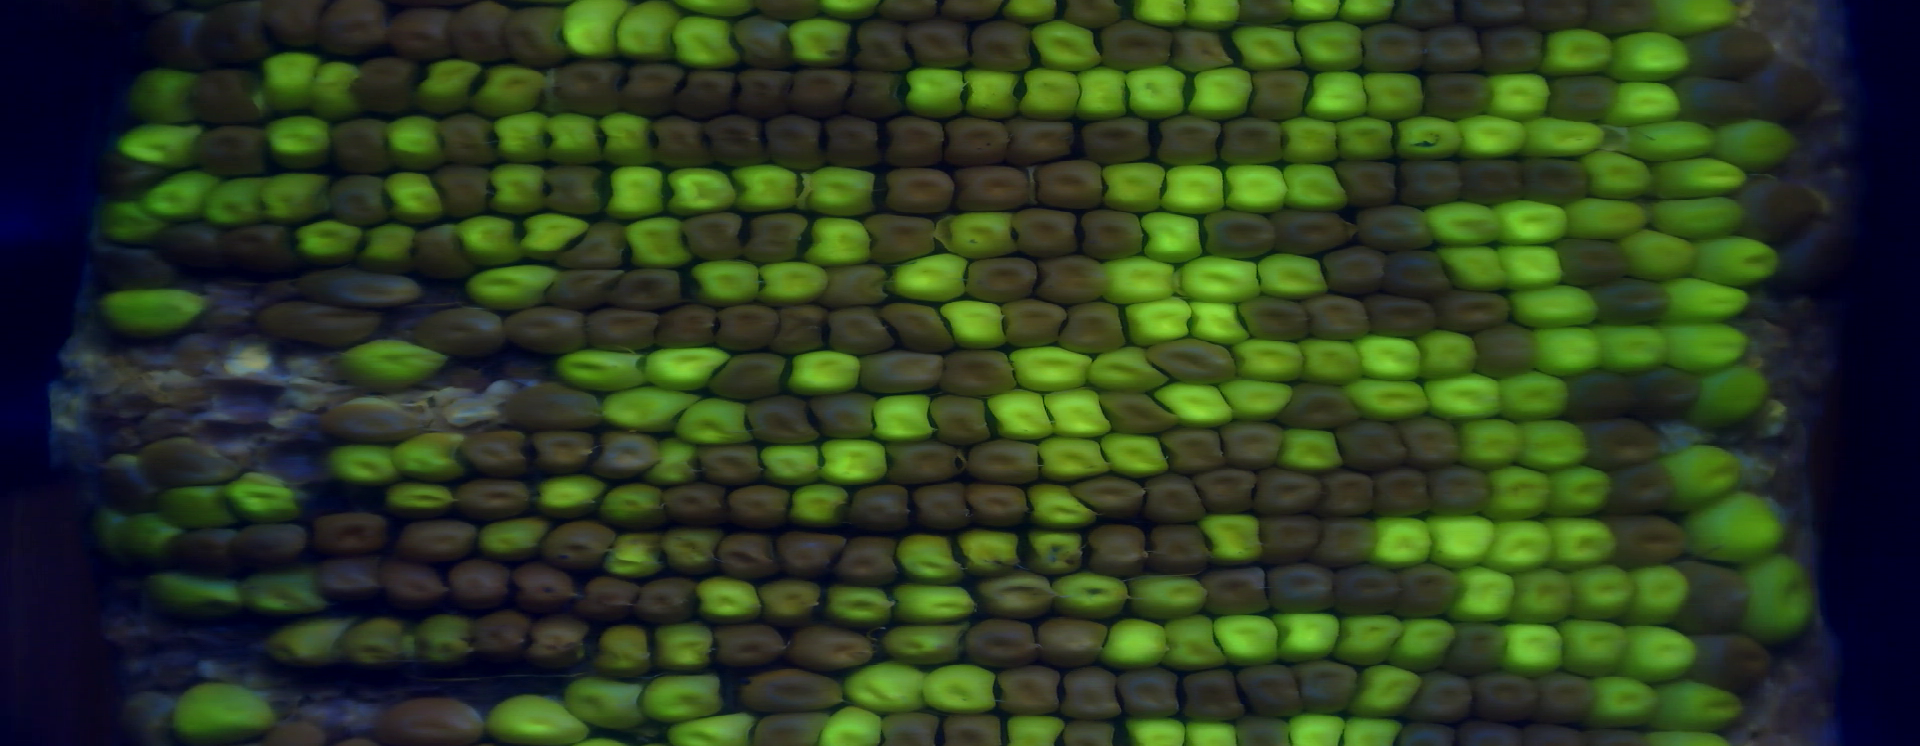fluorescent: (1678, 488, 1785, 570), (1738, 549, 1813, 641), (93, 283, 206, 344), (167, 684, 280, 744), (1656, 443, 1746, 514), (140, 566, 249, 624), (1644, 673, 1746, 733), (1693, 352, 1767, 431), (444, 209, 531, 274), (1562, 189, 1658, 247), (339, 334, 452, 383), (1480, 512, 1561, 578), (1118, 566, 1215, 621), (482, 693, 588, 744), (1660, 316, 1751, 374), (1690, 232, 1780, 288), (1283, 15, 1368, 75), (1504, 277, 1599, 330), (918, 657, 1000, 718), (1621, 113, 1725, 160), (1539, 511, 1619, 573), (1618, 621, 1697, 684), (1269, 604, 1349, 665), (1036, 385, 1118, 445), (235, 570, 338, 617), (842, 661, 931, 717), (463, 262, 562, 311), (1482, 464, 1562, 524), (885, 576, 977, 628), (260, 111, 337, 174), (125, 66, 204, 126), (560, 674, 644, 730), (1558, 617, 1632, 681), (1711, 118, 1799, 171), (1343, 371, 1431, 425), (636, 673, 732, 722), (1213, 372, 1305, 424), (1516, 414, 1598, 472), (883, 255, 972, 307), (1082, 344, 1172, 397), (1427, 505, 1498, 571), (1657, 272, 1751, 321), (1008, 341, 1102, 390), (471, 55, 542, 120), (1531, 323, 1607, 383), (1224, 22, 1309, 76), (1431, 241, 1512, 298), (1642, 194, 1747, 236), (1332, 605, 1404, 668), (636, 342, 732, 388), (1565, 563, 1644, 620), (938, 209, 1019, 265), (1032, 432, 1113, 488), (1625, 561, 1691, 628), (942, 288, 1011, 352), (675, 10, 746, 72), (782, 348, 871, 398), (1138, 205, 1210, 266), (556, 345, 648, 393), (1253, 250, 1336, 303), (819, 578, 902, 631), (257, 48, 324, 113), (1580, 145, 1656, 202), (1347, 661, 1423, 719), (1370, 512, 1441, 573), (1150, 160, 1227, 217), (1652, 152, 1747, 197), (1177, 252, 1265, 301), (116, 121, 204, 170), (1194, 512, 1269, 570), (539, 100, 602, 168), (1100, 426, 1176, 483), (1584, 670, 1660, 726), (1051, 566, 1131, 619), (1609, 32, 1693, 82), (1149, 380, 1233, 430), (598, 386, 699, 428), (1545, 458, 1611, 522), (1016, 62, 1086, 122), (656, 708, 767, 746), (151, 481, 240, 528), (1491, 196, 1572, 247), (1160, 614, 1226, 676), (1349, 332, 1428, 385), (1420, 200, 1502, 250), (1096, 256, 1178, 306), (754, 257, 836, 307), (287, 218, 369, 268), (785, 17, 860, 72), (1542, 24, 1616, 80), (689, 254, 765, 307), (983, 390, 1059, 443), (1218, 162, 1291, 218), (868, 390, 940, 446), (1119, 295, 1196, 348), (1524, 111, 1605, 162), (1227, 336, 1316, 381), (950, 526, 1024, 581), (1453, 563, 1521, 624), (1393, 612, 1461, 673), (416, 58, 484, 118), (613, 1, 682, 60), (726, 160, 804, 212), (1101, 612, 1171, 670), (1100, 158, 1171, 214), (802, 216, 878, 268), (891, 532, 967, 584), (1022, 479, 1102, 529), (623, 214, 696, 269), (1498, 622, 1570, 677), (1510, 565, 1572, 628), (1453, 418, 1528, 470), (264, 621, 349, 668), (322, 440, 404, 488), (807, 163, 878, 218), (1296, 332, 1367, 387), (1213, 612, 1284, 668), (1596, 321, 1671, 372), (751, 439, 830, 488), (381, 107, 446, 167), (1282, 159, 1351, 216), (560, 1, 628, 58), (1491, 241, 1566, 293), (479, 517, 553, 568), (1609, 76, 1687, 125), (1487, 69, 1558, 122), (604, 160, 669, 219), (258, 170, 331, 223), (223, 473, 295, 526), (1360, 70, 1429, 125), (814, 436, 891, 485), (389, 431, 467, 480), (593, 483, 676, 528), (342, 615, 403, 676), (1180, 295, 1251, 348), (591, 620, 656, 677), (1422, 376, 1506, 420), (92, 197, 171, 244), (1391, 111, 1464, 162), (1275, 424, 1344, 477), (119, 505, 180, 565), (961, 61, 1024, 120), (1620, 229, 1691, 281), (1416, 326, 1482, 381), (696, 575, 763, 628), (1498, 369, 1573, 416), (673, 401, 756, 445), (514, 209, 584, 261), (1304, 65, 1368, 121), (1076, 62, 1133, 126), (598, 110, 661, 167), (817, 701, 895, 746), (1275, 111, 1342, 164), (144, 170, 212, 223), (309, 53, 365, 115), (1188, 62, 1251, 118), (485, 160, 549, 216), (1330, 114, 1400, 164), (198, 173, 264, 225), (1029, 20, 1100, 69), (664, 165, 735, 214), (350, 227, 420, 276), (902, 66, 967, 119), (413, 609, 471, 666), (609, 529, 669, 586), (1127, 69, 1189, 122), (879, 621, 962, 661), (651, 621, 718, 671), (1457, 115, 1529, 160), (536, 469, 604, 517), (789, 480, 858, 526), (384, 174, 446, 224), (1026, 527, 1089, 576), (1652, 1, 1736, 37), (91, 501, 136, 567), (487, 111, 547, 160), (389, 475, 457, 518), (645, 436, 704, 484), (1120, 712, 1196, 746), (1287, 710, 1353, 746), (999, 713, 1070, 746), (1133, 1, 1196, 33), (1188, 1, 1247, 36), (1180, 715, 1244, 746), (1644, 725, 1734, 746), (1344, 717, 1406, 746), (1333, 1, 1400, 28), (675, 1, 759, 22), (818, 1, 882, 27), (1284, 1, 1346, 21), (1008, 1, 1059, 24)
nonfluorescent: (1760, 209, 1850, 299), (253, 294, 384, 349), (411, 300, 524, 359), (1669, 559, 1755, 635), (1684, 632, 1776, 697), (294, 262, 425, 307), (317, 396, 433, 446), (129, 436, 241, 488), (410, 214, 486, 290), (498, 385, 607, 437), (367, 695, 489, 741), (876, 296, 960, 361), (1736, 171, 1816, 239), (502, 1, 574, 75), (500, 301, 598, 355), (778, 624, 879, 675), (1142, 333, 1242, 386), (382, 1, 460, 67), (1265, 561, 1349, 622), (89, 232, 179, 289), (740, 392, 825, 452), (1584, 272, 1678, 326), (615, 55, 687, 124), (1000, 111, 1082, 171), (1073, 114, 1160, 170), (1458, 668, 1545, 724), (313, 1, 393, 62), (1686, 24, 1776, 78), (82, 143, 165, 201), (1671, 72, 1758, 127), (138, 10, 213, 73), (962, 15, 1040, 76), (1198, 207, 1283, 262), (732, 669, 842, 712), (855, 342, 944, 394), (509, 557, 588, 617), (1393, 559, 1464, 625), (1078, 516, 1151, 579), (1195, 563, 1275, 622), (540, 516, 620, 575), (1095, 20, 1176, 77), (1265, 205, 1359, 254), (708, 347, 792, 401), (948, 165, 1038, 216), (216, 222, 304, 273), (181, 67, 263, 122), (1467, 321, 1539, 383), (200, 1, 272, 64), (1603, 512, 1686, 566), (763, 107, 830, 173), (1578, 416, 1656, 474), (1177, 661, 1248, 724), (798, 390, 880, 443), (394, 516, 484, 565), (820, 108, 888, 173), (822, 303, 898, 360), (1057, 296, 1129, 356), (541, 160, 613, 220), (880, 436, 962, 489), (1029, 157, 1107, 212), (860, 209, 938, 265), (1551, 232, 1630, 287), (446, 1, 509, 69), (936, 345, 1019, 397), (880, 111, 951, 171), (1236, 292, 1316, 344), (309, 555, 389, 608), (1032, 249, 1109, 304), (1333, 416, 1411, 472), (989, 663, 1067, 718), (927, 392, 1000, 450), (1393, 413, 1467, 470), (320, 118, 393, 175), (1008, 205, 1086, 258), (105, 451, 171, 514), (1002, 296, 1076, 353), (964, 251, 1043, 304), (1031, 615, 1111, 668), (1296, 657, 1365, 717), (1311, 511, 1382, 570), (962, 621, 1043, 673), (555, 220, 636, 272), (544, 266, 631, 314), (851, 18, 924, 75), (879, 167, 958, 219), (1076, 205, 1146, 263), (1298, 292, 1378, 343), (440, 559, 516, 612), (1116, 664, 1187, 722), (198, 120, 271, 176), (527, 424, 604, 477), (1446, 619, 1509, 684), (1749, 62, 1822, 118), (594, 421, 661, 481), (1098, 387, 1183, 435), (1547, 76, 1621, 130), (1600, 458, 1675, 512), (1360, 289, 1440, 339), (1559, 371, 1644, 418), (845, 481, 917, 537), (961, 436, 1044, 484), (525, 610, 590, 671), (1280, 380, 1360, 429), (1058, 665, 1127, 723), (1351, 203, 1438, 249), (939, 116, 1014, 169), (784, 62, 853, 119), (429, 164, 500, 219), (456, 428, 535, 477), (1069, 474, 1150, 522), (1217, 114, 1287, 169), (1517, 156, 1592, 207), (373, 560, 444, 614), (1533, 666, 1597, 726), (156, 220, 231, 271), (1398, 153, 1464, 211), (556, 58, 622, 115), (1216, 421, 1288, 474), (830, 533, 898, 589), (1255, 510, 1322, 566), (1335, 561, 1402, 617), (1149, 114, 1222, 165), (708, 622, 793, 666), (351, 56, 420, 111), (451, 477, 534, 522), (702, 111, 765, 170), (1633, 365, 1704, 418), (718, 481, 793, 530), (1381, 247, 1453, 299), (907, 479, 975, 534), (1239, 661, 1307, 717), (576, 573, 644, 627), (1404, 671, 1473, 725), (1322, 240, 1387, 296), (770, 301, 830, 361), (714, 530, 787, 579), (771, 530, 845, 579), (328, 174, 392, 230), (692, 439, 767, 486), (1330, 156, 1401, 206), (962, 477, 1033, 527), (1431, 284, 1510, 330), (743, 208, 811, 261), (708, 303, 780, 352), (678, 213, 747, 265), (654, 299, 722, 350), (842, 65, 904, 122), (1140, 524, 1213, 572), (729, 15, 795, 67), (1157, 426, 1228, 475), (1191, 463, 1259, 514), (1139, 473, 1206, 524), (1455, 157, 1527, 205), (470, 609, 531, 665), (262, 1, 323, 58), (730, 65, 793, 119), (1476, 24, 1545, 73), (1420, 22, 1485, 75), (1427, 465, 1491, 518), (1373, 465, 1438, 518), (818, 265, 898, 307), (440, 111, 500, 168), (1248, 67, 1311, 120), (1359, 18, 1425, 69), (233, 523, 315, 563), (658, 485, 732, 529), (905, 16, 973, 64), (309, 512, 389, 552), (587, 306, 658, 352), (1425, 71, 1491, 119), (611, 267, 684, 310), (632, 575, 696, 624), (173, 529, 250, 570), (1315, 469, 1376, 518), (1247, 472, 1322, 511), (1581, 1, 1664, 37), (753, 710, 836, 746), (683, 66, 737, 120), (653, 115, 710, 165), (1168, 28, 1229, 73), (757, 577, 817, 622), (1516, 1, 1596, 34), (871, 713, 947, 746), (940, 710, 1010, 746), (1229, 715, 1303, 746), (260, 722, 350, 746), (1389, 1, 1462, 31), (1062, 1, 1129, 31), (1056, 717, 1120, 746), (1395, 720, 1466, 746), (1460, 723, 1533, 746), (1463, 1, 1529, 27), (936, 1, 1007, 24), (756, 1, 827, 23), (878, 1, 944, 24), (1239, 1, 1291, 23)
